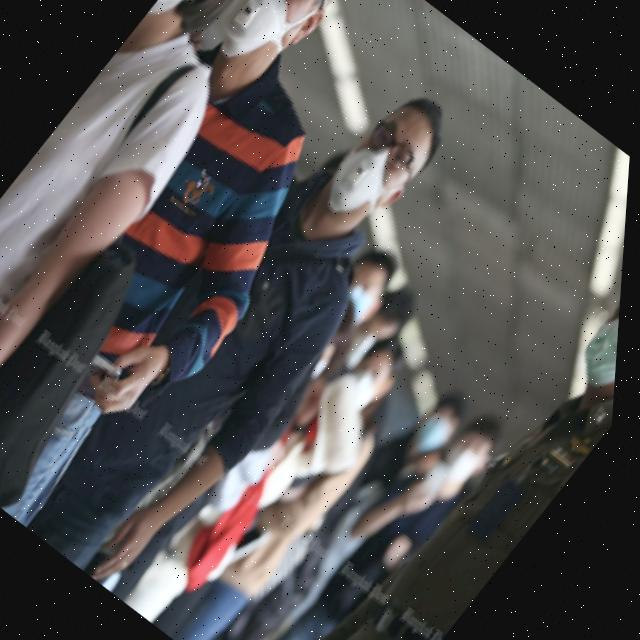Mask: (308, 129, 417, 232), (206, 0, 318, 79), (567, 301, 624, 403), (143, 0, 230, 34), (441, 442, 492, 490), (415, 408, 463, 456)
